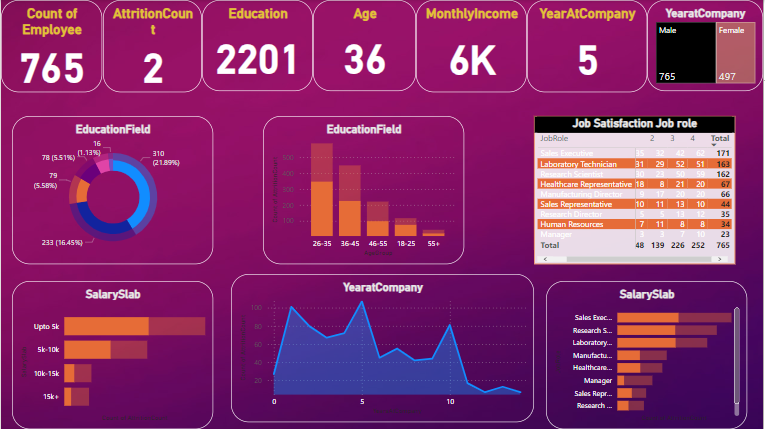

Layout of this report page (visuals, bound fields, positions):
{"tool":"powerbi","page":{"name":"Page 1","canvas":[1280,720],"ordinal":0},"visuals":[{"type":"card","title":"Count of  Employee","fields":{"Values":["CountNonNull(HR_Analytics.EmpID)"]},"box":[0,0,169.7,154.5],"z":0},{"type":"card","title":"AttritionCount","fields":{"Values":["Count(HR_Analytics.AttritionCount)"]},"box":[171.3,0,166.3,154.5],"z":1000},{"type":"card","title":"Education","fields":{"Values":["Sum(HR_Analytics.Education)"]},"box":[337.6,0,186.5,152.9],"z":2000},{"type":"card","title":"Age","fields":{"Values":["Avg(HR_Analytics.Age)"]},"box":[524.1,0,173,152.9],"z":3000},{"type":"card","title":"MonthlyIncome","fields":{"Values":["Avg(HR_Analytics.MonthlyIncome)"]},"box":[697.1,0,186.5,154.5],"z":4000},{"type":"card","title":"YearAtCompany","fields":{"Values":["Avg(HR_Analytics.YearsAtCompany)"]},"box":[883.6,0,201.6,154.5],"z":5000},{"type":"donutChart","title":"EducationField","fields":{"Y":["CountNonNull(HR_Analytics.AttritionCount)"],"Category":["HR_Analytics.EducationField"]},"box":[18.5,194.9,337.6,248.6],"z":6000},{"type":"columnChart","title":"EducationField","fields":{"Category":["HR_Analytics.AgeGroup"],"Y":["CountNonNull(HR_Analytics.AttritionCount)"]},"box":[440.1,194.9,337.6,248.6],"z":7000},{"type":"pivotTable","title":"Job Satisfaction Job role","fields":{"Rows":["HR_Analytics.JobRole"],"Values":["CountNonNull(HR_Analytics.AttritionCount)"],"Columns":["HR_Analytics.JobSatisfaction"]},"box":[895.3,194.9,337.6,248.6],"z":8000},{"type":"barChart","title":"SalarySlab","fields":{"Category":["HR_Analytics.SalarySlab"],"Y":["CountNonNull(HR_Analytics.AttritionCount)"]},"box":[18.5,472,337.6,248.6],"z":8001},{"type":"barChart","title":"SalarySlab","fields":{"Y":["CountNonNull(HR_Analytics.AttritionCount)"],"Category":["HR_Analytics.JobRole"]},"box":[915.5,472,337.6,248.6],"z":8002},{"type":"areaChart","title":"YearatCompany","fields":{"Y":["CountNonNull(HR_Analytics.AttritionCount)"],"Category":["HR_Analytics.YearsAtCompany"]},"box":[386.4,460.3,509,248.6],"z":8003},{"type":"treemap","title":"YearatCompany","fields":{"Group":["HR_Analytics.Gender"],"Values":["CountNonNull(HR_Analytics.AttritionCount)"]},"box":[1085.1,0,194.9,152.9],"z":8004}]}

Visuals, with their boxes in screenshot pixels (x1, y1, x2, y2), scaled from the page's 1280x720 canvas onto the 765x429 screenshot:
"Count of  Employee" card: 0, 0, 101, 92
"AttritionCount" card: 102, 0, 202, 92
"Education" card: 202, 0, 313, 91
"Age" card: 313, 0, 417, 91
"MonthlyIncome" card: 417, 0, 528, 92
"YearAtCompany" card: 528, 0, 649, 92
"EducationField" donutChart: 11, 116, 213, 264
"EducationField" columnChart: 263, 116, 465, 264
"Job Satisfaction Job role" pivotTable: 535, 116, 737, 264
"SalarySlab" barChart: 11, 281, 213, 428
"SalarySlab" barChart: 547, 281, 749, 428
"YearatCompany" areaChart: 231, 274, 535, 422
"YearatCompany" treemap: 649, 0, 764, 91
